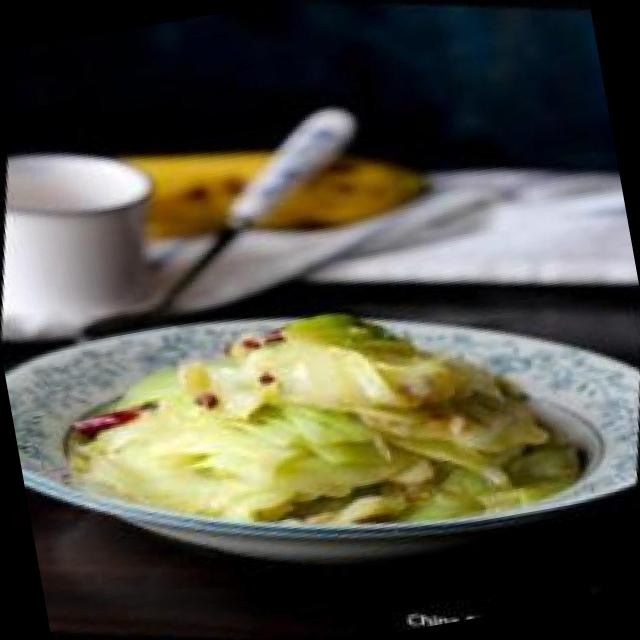chinese_cabbage: (62, 248, 556, 596)
